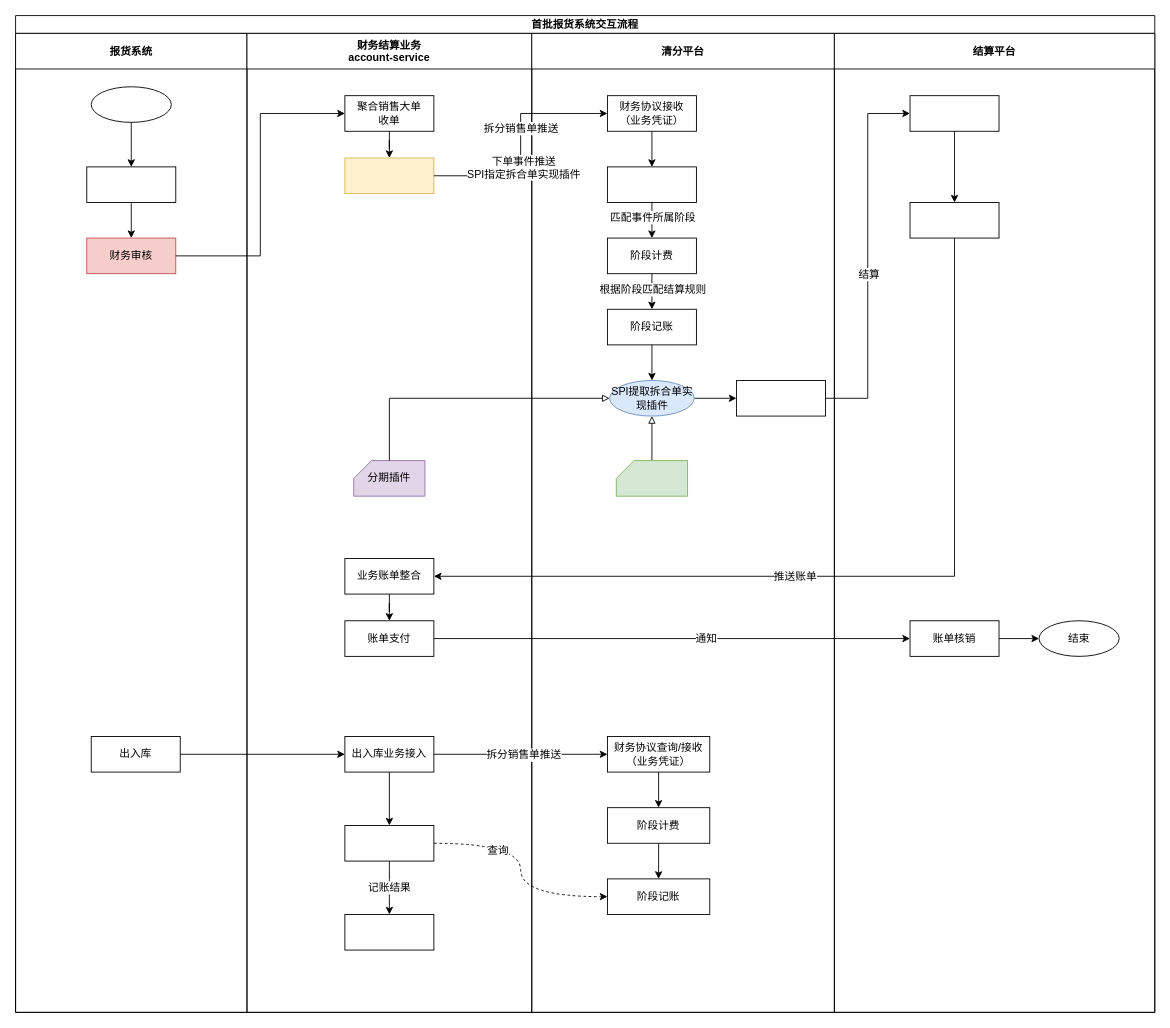
Some shapes in this 1170 by 1028 pixel diagram are drawn without their labels. The shapes that lost their labels are listed below. From the top down, each one's centre as x and y in pixels, then its label:
the point at 130,104: 开始
the point at 954,113: 结算收单
the point at 131,184: 报货下单
the point at 389,175: 业务校验
the point at 651,184: 业务结算实例查询
the point at 954,220: 出账
the point at 780,398: 清分结算
the point at 651,478: 钆差插件
the point at 389,843: 定时查询记账结果
the point at 389,932: 推送金蝶应收单
